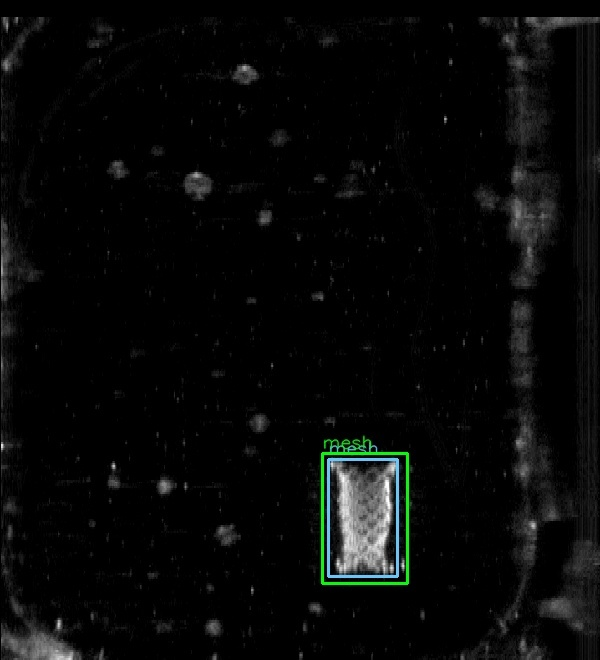mesh: (328, 459, 397, 576)
